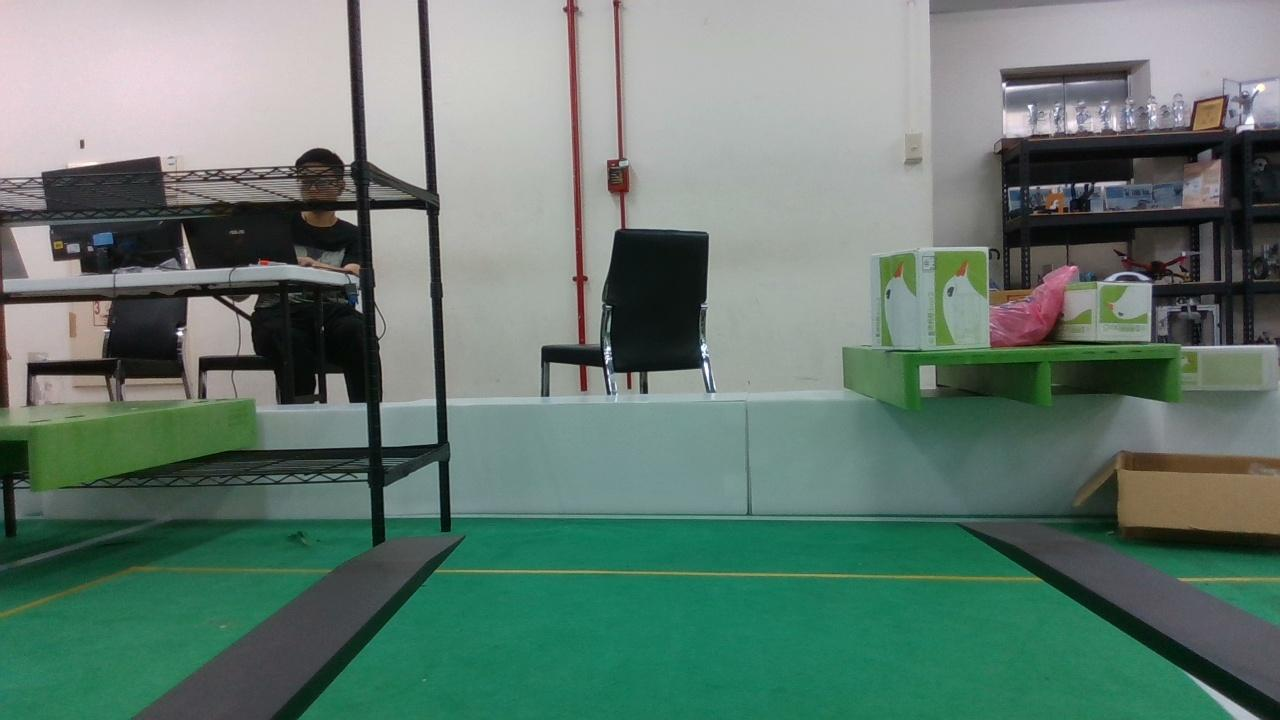Pallet: (902, 343, 1182, 407)
